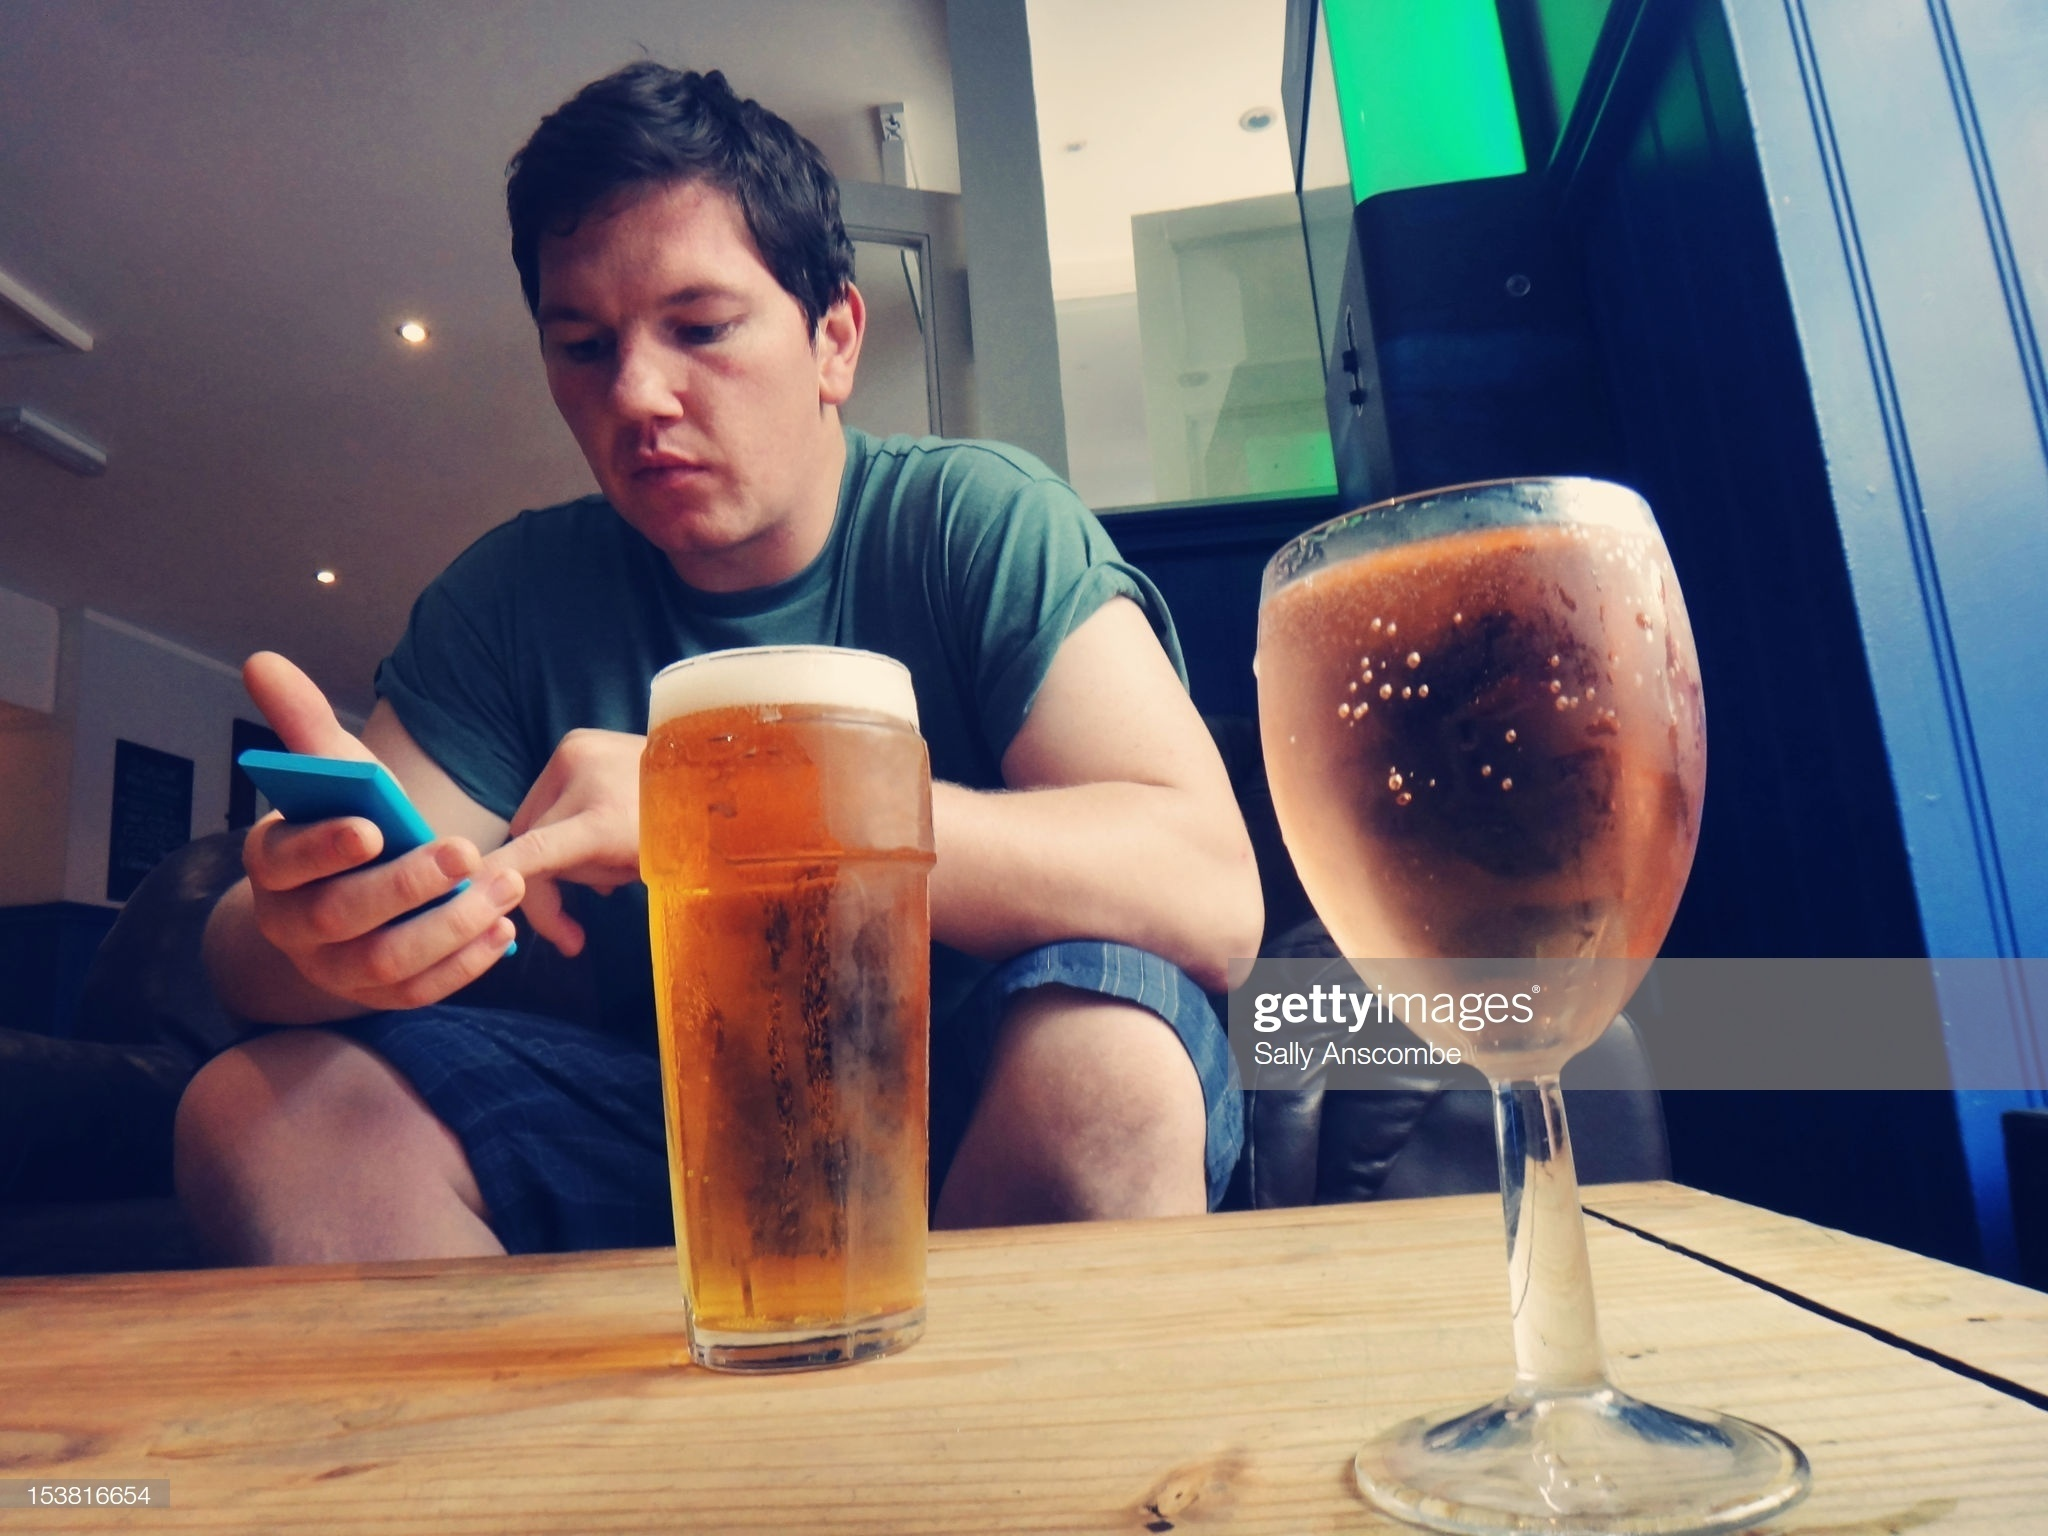whiskey: (1276, 470, 1767, 1509), (639, 663, 927, 1355)
